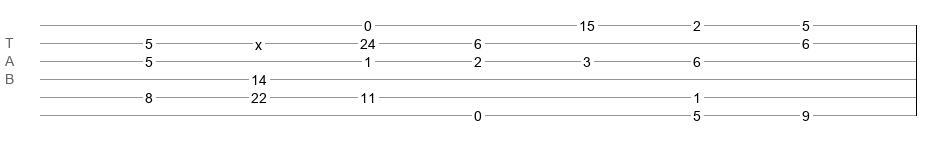0: (364, 18, 372, 28), (474, 108, 482, 118)
1: (364, 54, 372, 64), (693, 90, 701, 100)
11: (360, 90, 376, 100)
14: (251, 72, 267, 82)
15: (579, 18, 595, 28)
2: (474, 54, 482, 64), (693, 18, 701, 28)
22: (251, 90, 267, 100)
24: (360, 36, 376, 46)
3: (583, 54, 591, 64)
5: (145, 54, 153, 64), (145, 36, 153, 46), (693, 108, 701, 118), (802, 18, 810, 28)
6: (474, 36, 482, 46), (693, 54, 701, 64), (802, 36, 810, 46)
8: (145, 90, 153, 100)
9: (802, 108, 810, 118)
x: (255, 37, 262, 45)
